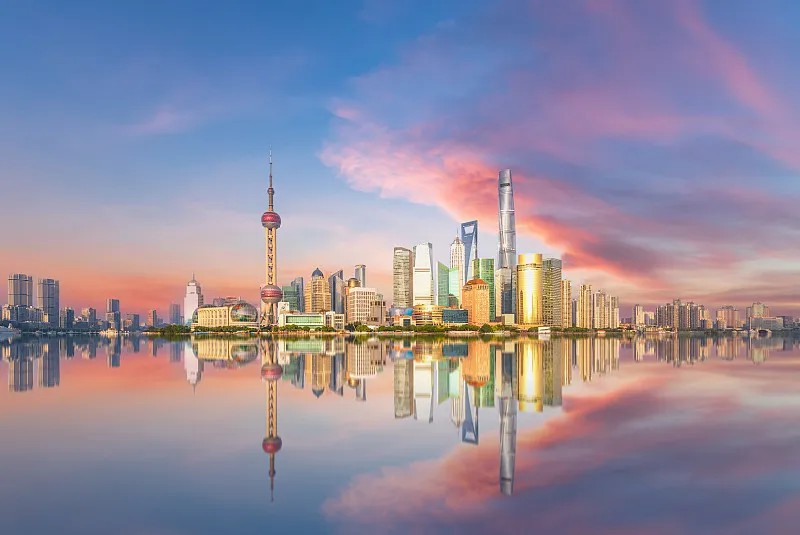Oriental: (259, 148, 282, 325)
